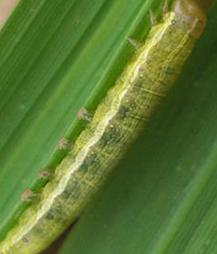pest: (1, 1, 216, 252)
